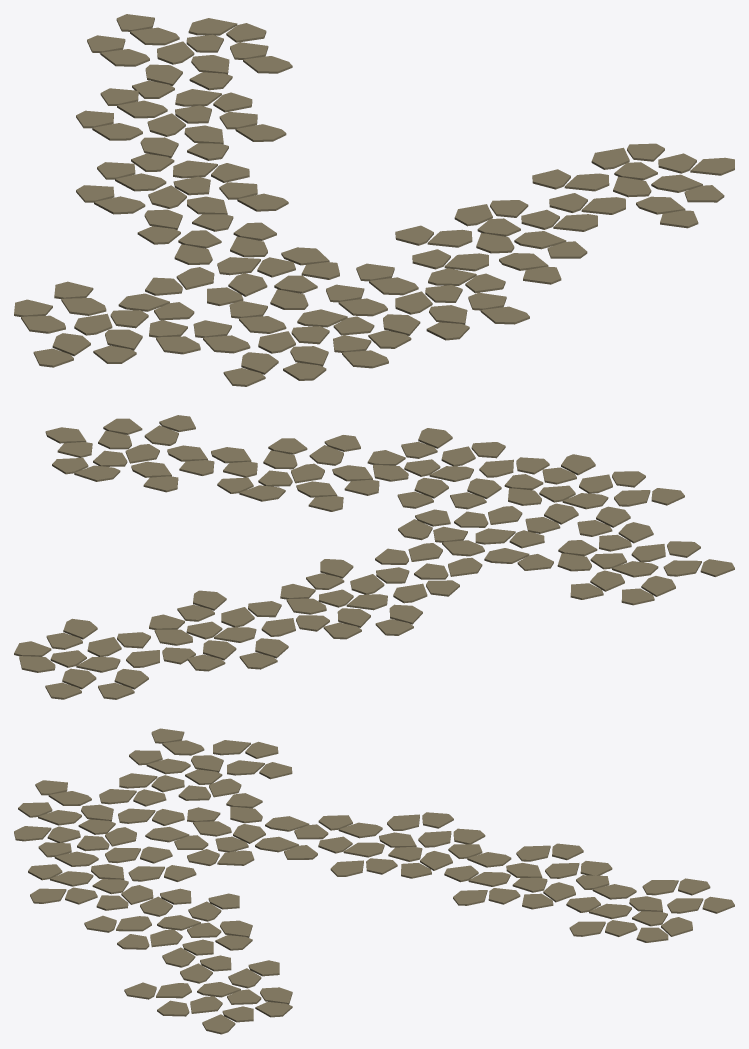
Rendered from paving.fbx.
3 views of the same model, one above another, from view 1: azimuth 30°, elevation 25°; view 2: azimuth 150°, elevation 25°; view 3: azimuth 270°, elevation 25° (orthographic). The views are drawn at different scales.
Visible parts, largest first — view 1: paving; view 2: paving; view 3: paving.
Part boxes in pixels (x1=…): paving: x1=14, y1=14, x2=734, y2=386; paving: x1=14, y1=415, x2=734, y2=699; paving: x1=14, y1=728, x2=734, y2=1034.
Bounding box in the file's own units: 1071 × 2.82 × 1072.
